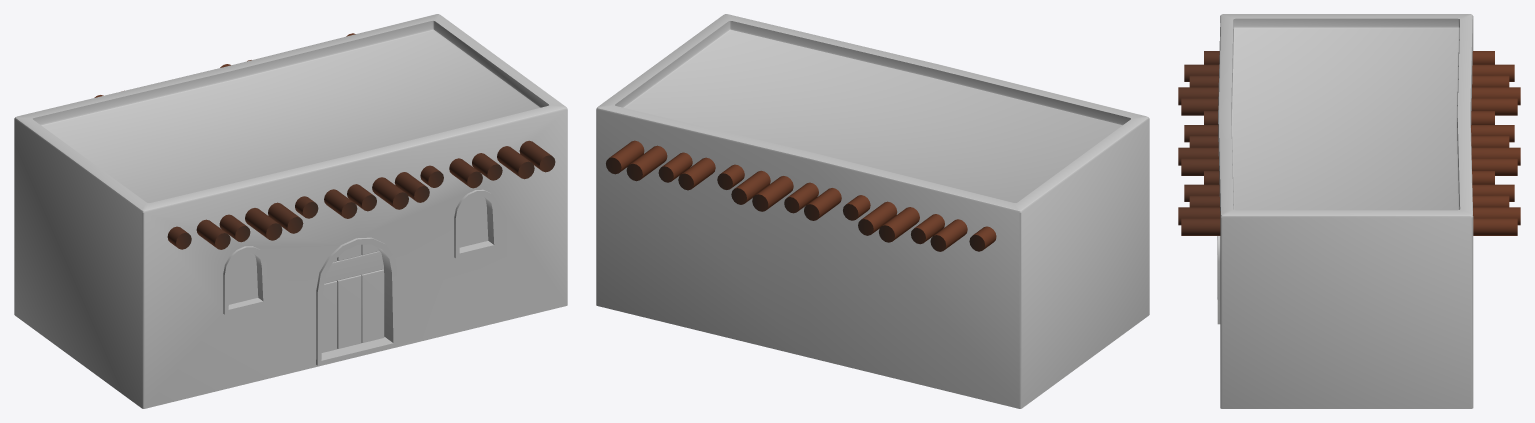
3 renders of one model, left to right at view 1: azimuth 30°, elevation 25°; view 2: azimuth 150°, elevation 25°; view 3: azimuth 270°, elevation 25°, orthographic. The views are drawn at different scales.
Visible parts, largest first — view 1: Uy.002; view 2: Uy.002; view 3: Uy.002.
Boxes of the visible parts, <box> form: Uy.002: <box>14,14,567,408</box>; Uy.002: <box>596,14,1149,408</box>; Uy.002: <box>1178,14,1520,408</box>.
Size of the model in its own units: 450 by 200 by 321.
